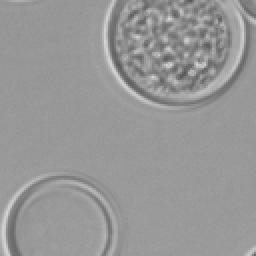picoshell: (102, 0, 246, 108), (0, 174, 118, 254), (238, 0, 254, 24)
